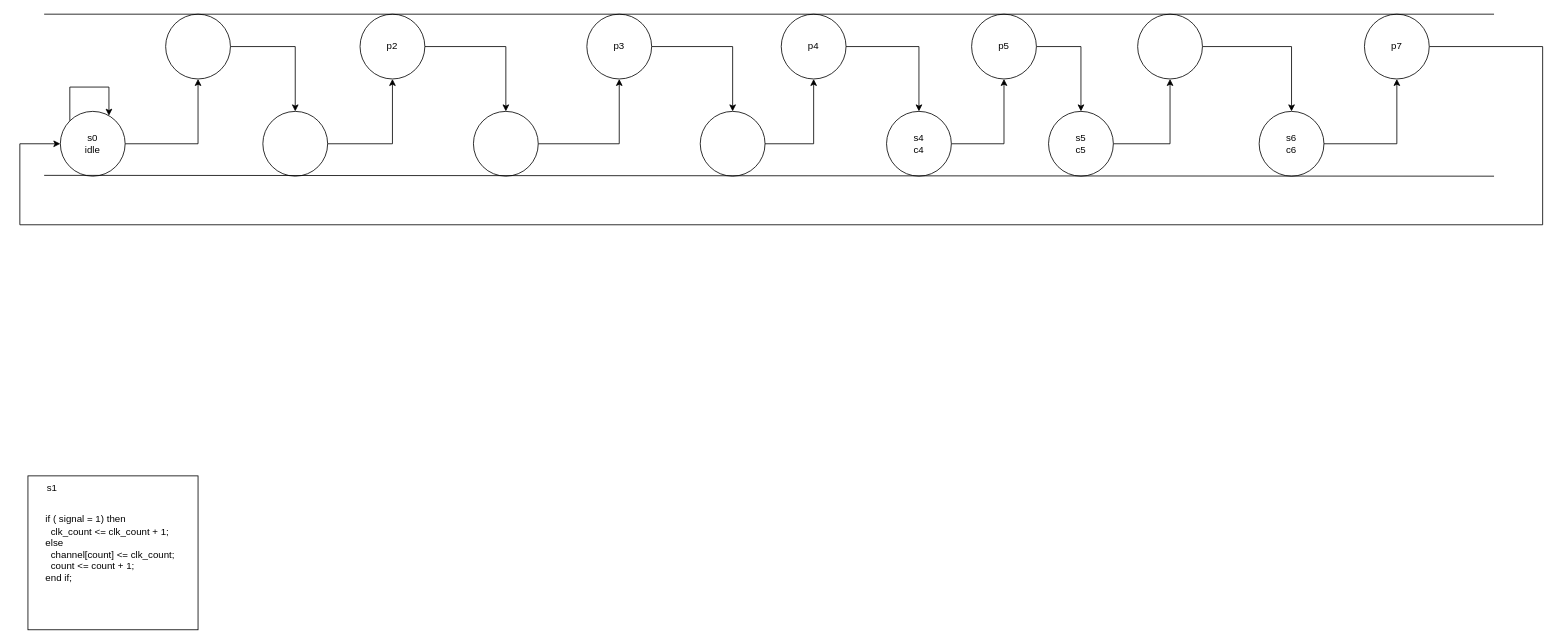
Some shapes in this 1563 by 644 pixel diagram are drawn without their labels. Here are the shapes that lost their labels. From the top down, the centre of each, then its label:
At point 197,46: "p1".
At point 1169,46: "p6".
At point 295,143: "s1 c1".
At point 505,143: "s2 c2".
At point 732,143: "s3 c3".
